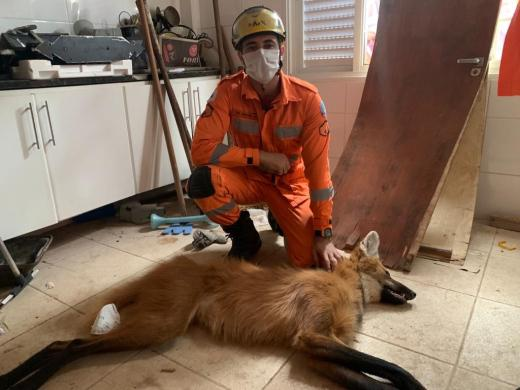LoboGuara: (44, 229, 441, 386)
